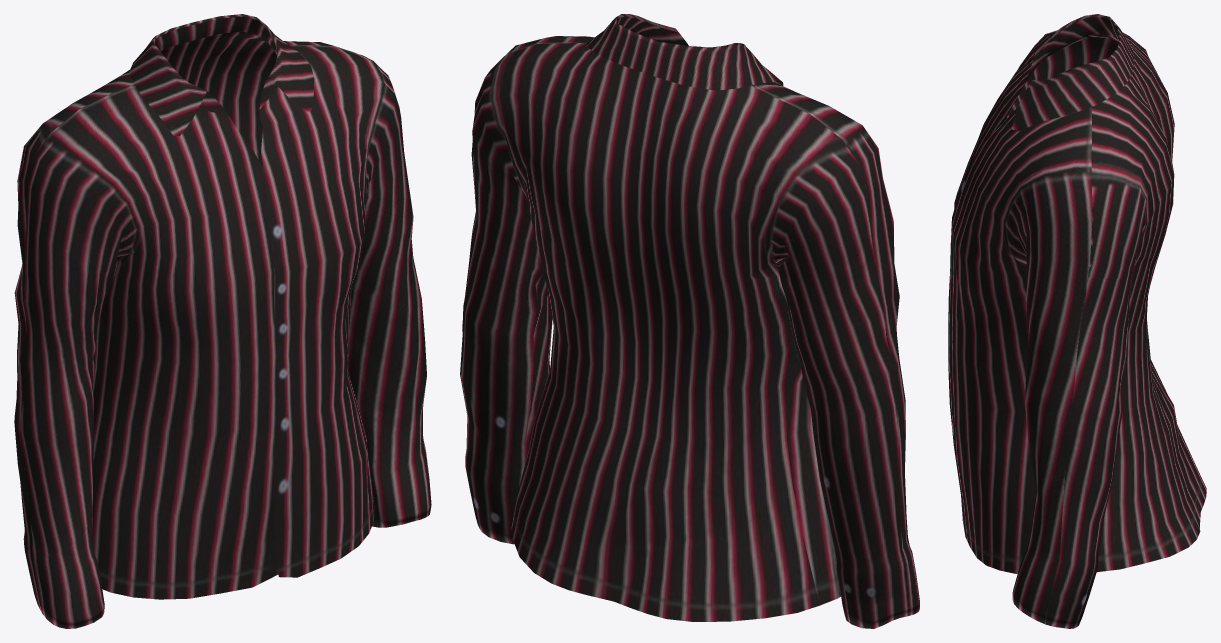
File: top_striped_shirt.gltf
3 views of the same model, side by side, from view 1: azimuth 30°, elevation 25°; view 2: azimuth 150°, elevation 25°; view 3: azimuth 270°, elevation 25° (orthographic). The views are drawn at different scales.
Visible parts, largest first — view 1: top_striped_shirt; view 2: top_striped_shirt; view 3: top_striped_shirt.
Boxes of the visible parts, bbox=[...] form: top_striped_shirt: bbox=[14, 14, 431, 628]; top_striped_shirt: bbox=[460, 14, 919, 628]; top_striped_shirt: bbox=[948, 14, 1206, 628].
Bounding box in the file's own units: 0.5033 × 0.628 × 0.2906.
Materials: 1 (1 with a texture image).
